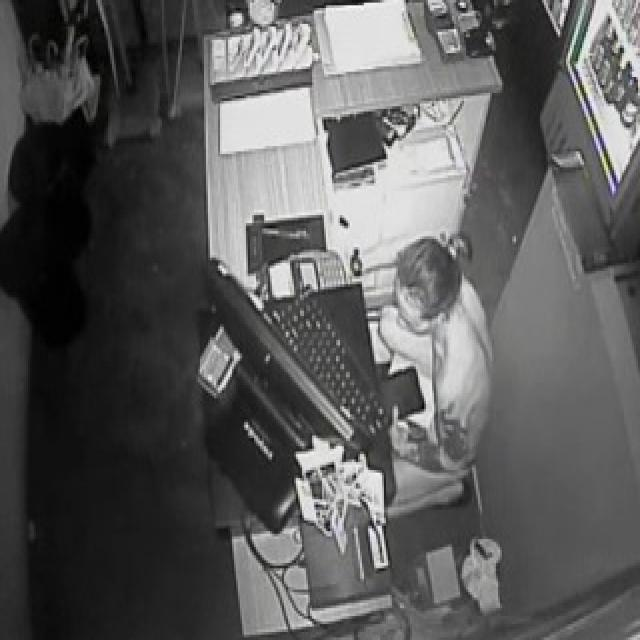thief: (371, 215, 481, 473)
